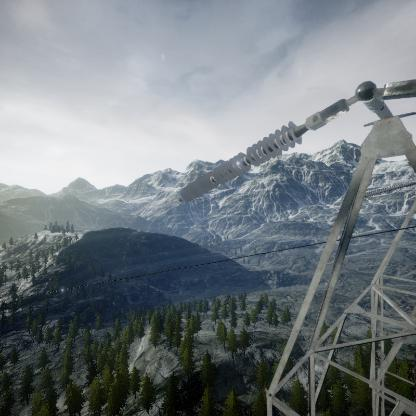insulator: (177, 119, 304, 202)
